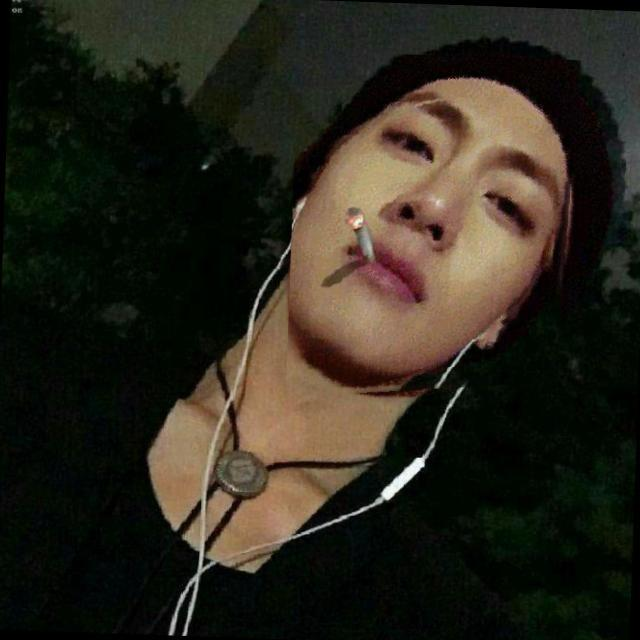cigarette: (347, 197, 386, 288)
